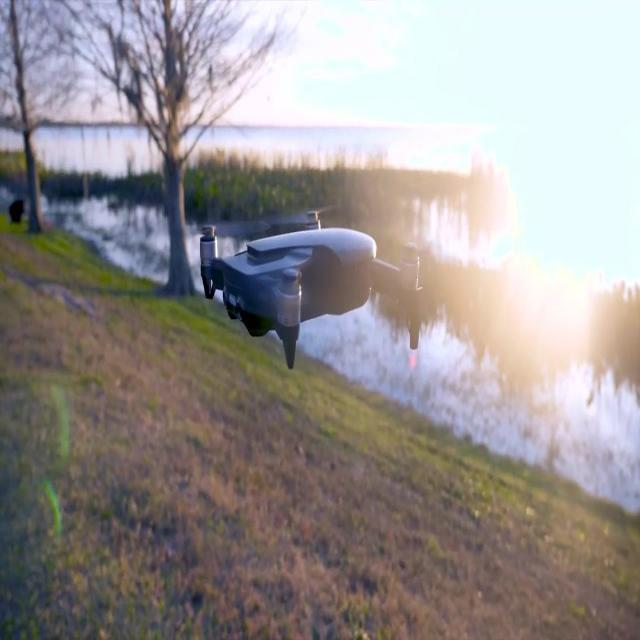UAV: (194, 210, 423, 370)
